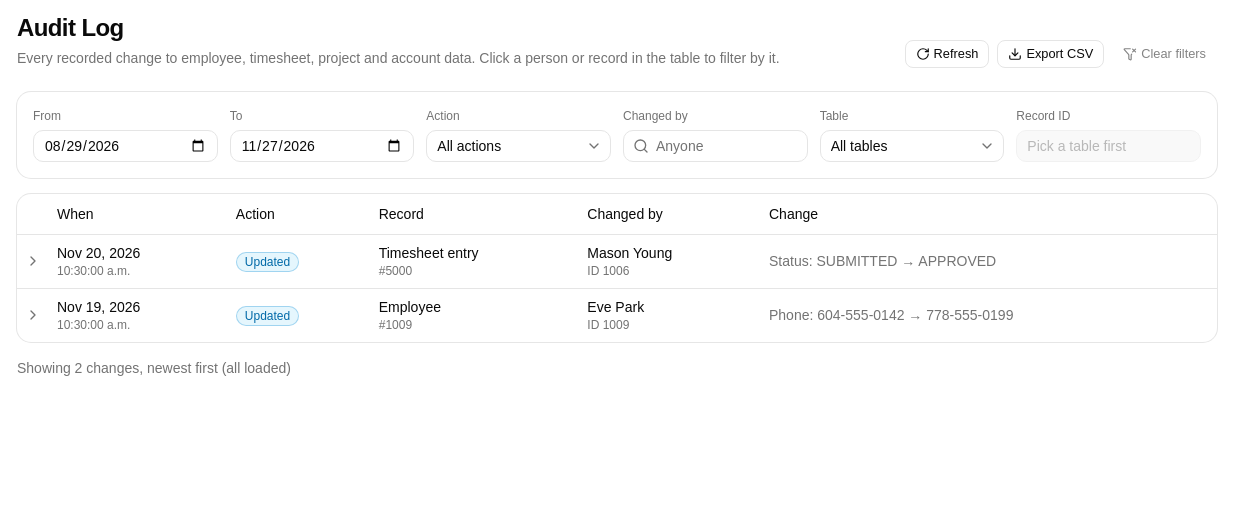
Scenario: expanding a row shows each field before and after
The image size is (1235, 525).
Click the text "Phone: 604-555-0142 → 778-555-0199" at [989, 315], box [761,288,1217,342]
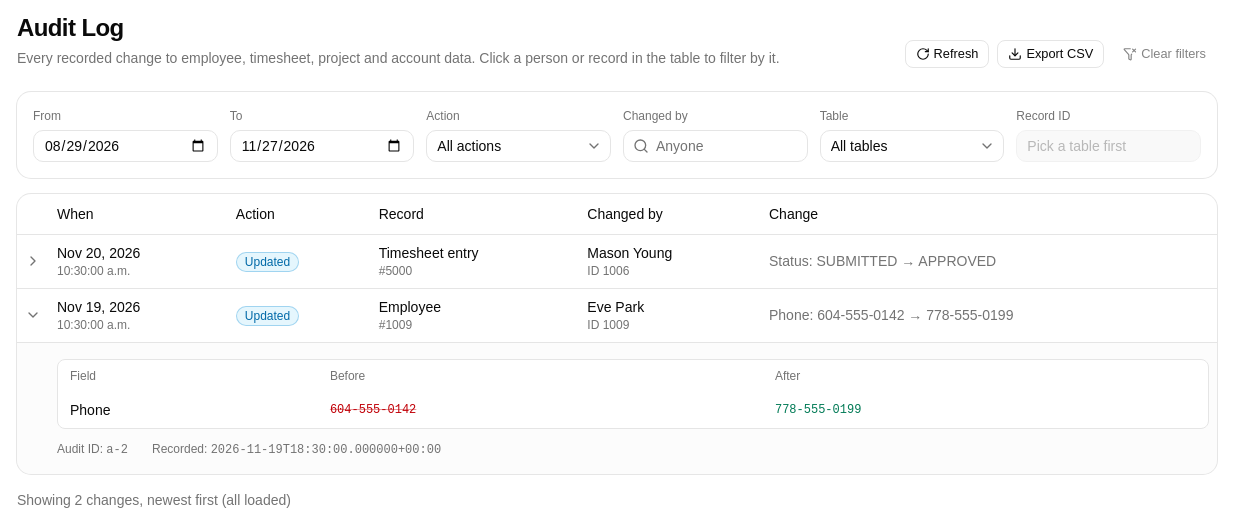
Now the text "604-555-0142" is shown, box [318,392,763,428]
Now the text "778-555-0199" is shown, box [763,392,1208,428]
Now the text "a-2" is shown, box [106,442,128,456]
